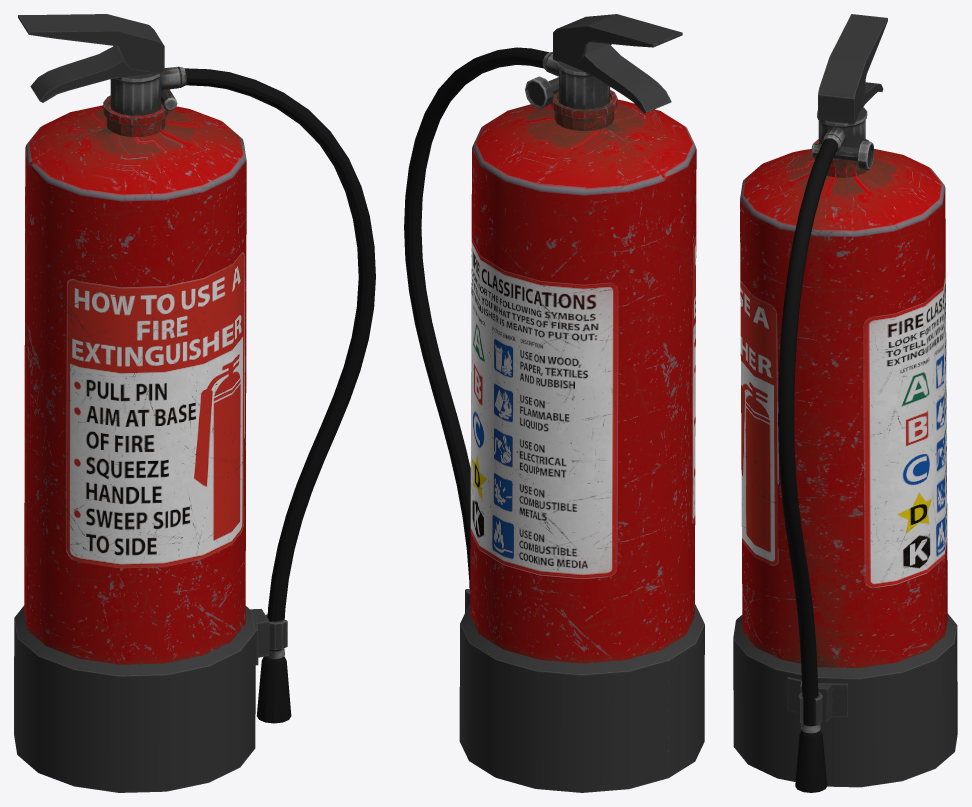
The model's file is Fire_Extinguisher_Textured.fbx.
3 renders of one model, left to right at view 1: azimuth 30°, elevation 25°; view 2: azimuth 150°, elevation 25°; view 3: azimuth 270°, elevation 25°, orthographic. The views are drawn at different scales.
Visible parts, largest first — view 1: Fire_Extinguisher; view 2: Fire_Extinguisher; view 3: Fire_Extinguisher.
Boxes of the visible parts, x1,y1,x2,y2 form: Fire_Extinguisher: (14,14,375,792); Fire_Extinguisher: (404,14,704,792); Fire_Extinguisher: (733,14,957,792).
Size of the model in its own units: 44.51 by 99.75 by 29.85.
